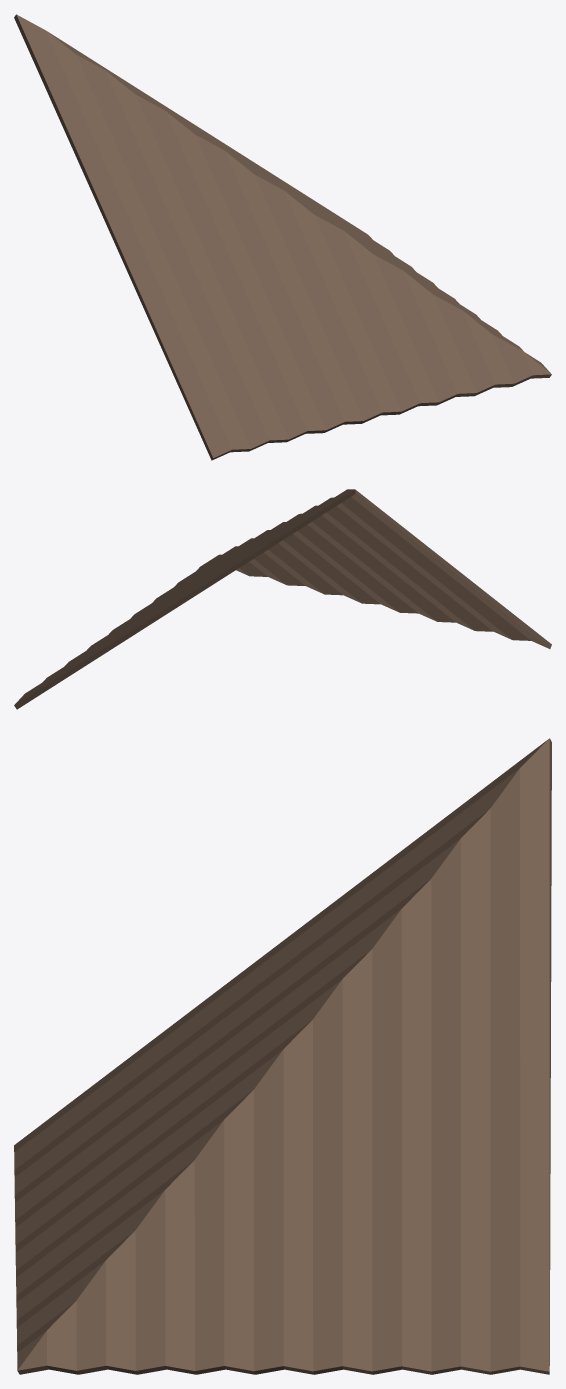
The model's file is Roof_02.fbx.
3 renders of one model, top to bottom at view 1: azimuth 30°, elevation 25°; view 2: azimuth 150°, elevation 25°; view 3: azimuth 270°, elevation 25°, orthographic. The views are drawn at different scales.
Parts seen in each view (by area): view 1: Roof_02_LOD0; view 2: Roof_02_LOD0; view 3: Roof_02_LOD0.
Part boxes in pixels (<box>): Roof_02_LOD0: <box>14,14,551,460</box>; Roof_02_LOD0: <box>14,489,551,709</box>; Roof_02_LOD0: <box>14,738,551,1374</box>.
Size of what is drawn, in the model's own units: 597 by 505 by 597.
